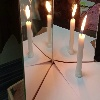fire: (81, 14, 87, 37)
